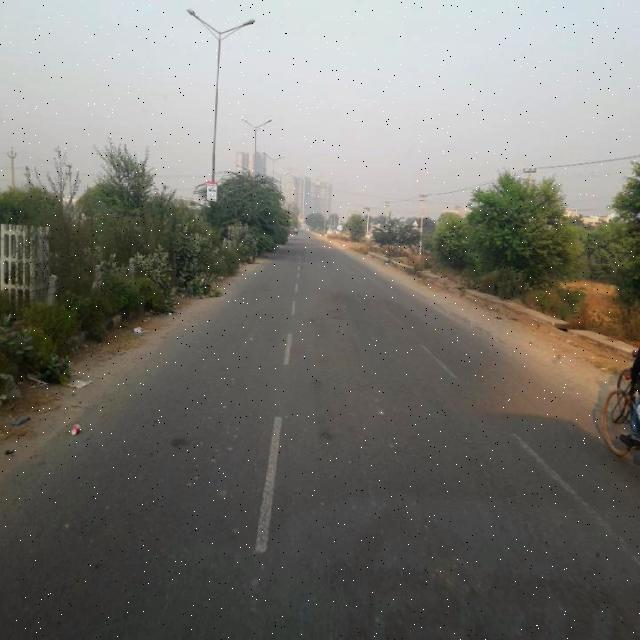D44: (506, 428, 637, 556)
